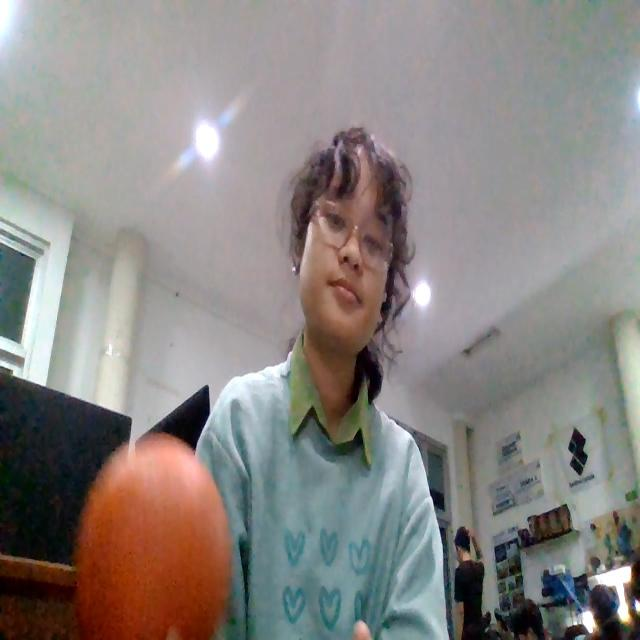ball: (73, 431, 233, 638)
